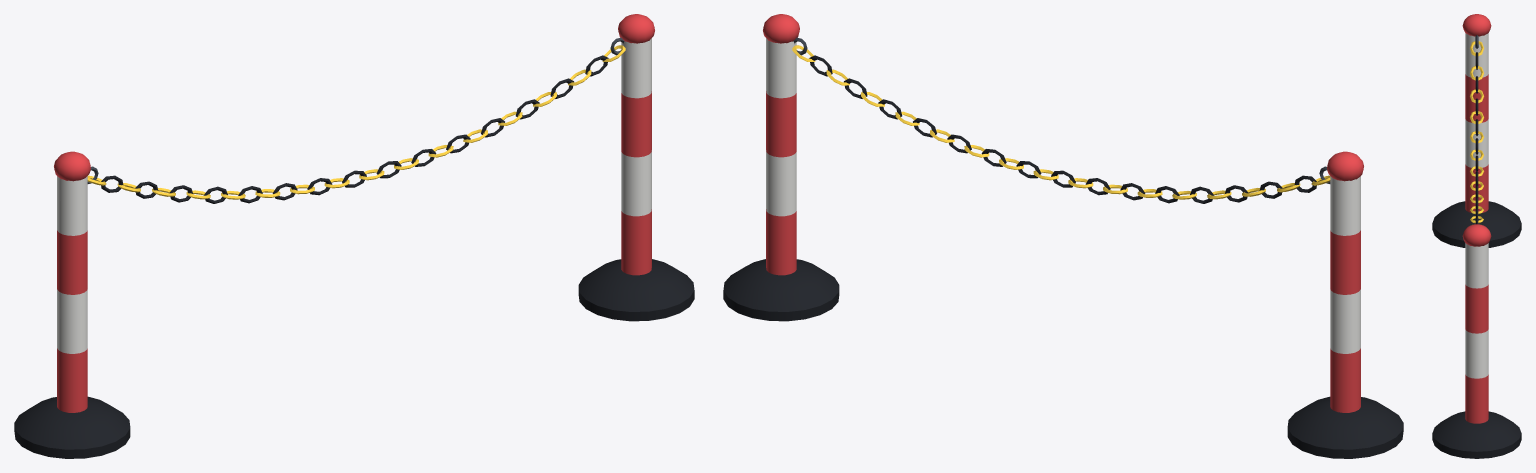
Rendered from corrente_balizadores.glb.
3 views of the same model, side by side, from view 1: azimuth 30°, elevation 25°; view 2: azimuth 150°, elevation 25°; view 3: azimuth 270°, elevation 25° (orthographic). The views are drawn at different scales.
Visible parts, largest first — view 1: corrente_balizadores; view 2: corrente_balizadores; view 3: corrente_balizadores.
Part boxes in pixels (bbox=[...]): corrente_balizadores: bbox=[14, 14, 694, 458]; corrente_balizadores: bbox=[723, 14, 1403, 458]; corrente_balizadores: bbox=[1432, 14, 1521, 458].
Bounding box in the file's own units: 2.24 × 0.904 × 0.34.
Materials: 1 (1 with a texture image).
